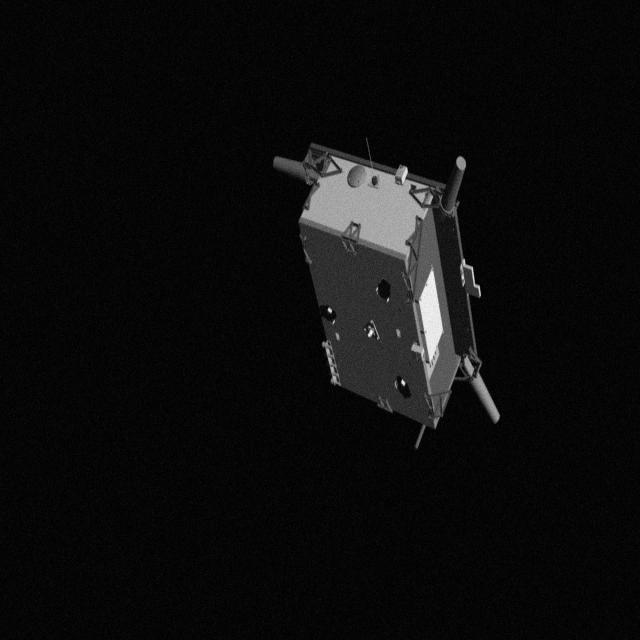medium_debris: (278, 138, 514, 448)
